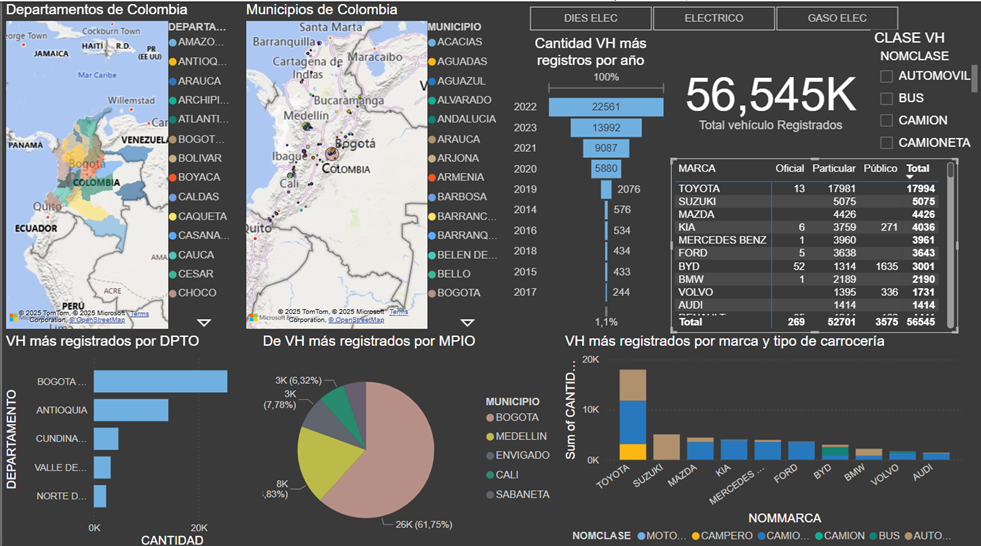

What the dashboard file says about the page in this screenshot:
{"tool":"powerbi","page":{"name":"Page 1","canvas":[1280,720],"ordinal":0},"visuals":[{"type":"pieChart","title":"% De VH más registrados por MPIO","fields":{"Category":["MUNICIPIO.MUNICIPIO"],"Y":["Sum(vehiculos_electricos_hibridos.CANTIDAD)"]},"box":[314.3,434.3,416.4,285.7],"z":0},{"type":"map","title":"Municipios de Colombia","fields":{"Y":["vehiculos_electricos_hibridos (2).LATITUD"],"X":["vehiculos_electricos_hibridos (2).LONGITUD"],"Series":["MUNICIPIO.MUNICIPIO"],"Size":["Sum(vehiculos_electricos_hibridos (2).CANTIDAD)"]},"box":[314.3,0,350.1,434.3],"z":1000},{"type":"filledMap","title":"Departamentos de Colombia","fields":{"Category":["DEPARTAMENTO.DEPARTAMENTO"],"Y":["Avg(vehiculos_electricos_hibridos.LATITUD)"],"X":["Avg(vehiculos_electricos_hibridos.LONGITUD)"],"Series":["DEPARTAMENTO.DEPARTAMENTO"]},"box":[0,0,314.3,434.3],"z":2000},{"type":"slicer","fields":{"Values":["COMBUSTIBLE.NOMCOMBUSTIBLE"]},"box":[664.5,0,531,44.8],"z":3000},{"type":"barChart","title":"VH más registrados por DPTO","fields":{"Category":["DEPARTAMENTO.DEPARTAMENTO"],"Y":["Sum(vehiculos_electricos_hibridos.CANTIDAD)"]},"box":[0,434.3,341.2,285.7],"z":4000},{"type":"columnChart","title":"VH más registrados por marca y tipo de carrocería","fields":{"Category":["MARCA.NOMMARCA"],"Y":["Sum(vehiculos_electricos_hibridos.CANTIDAD)"],"Series":["CLASE.NOMCLASE"]},"box":[730.7,434.3,531,285.7],"z":5000},{"type":"funnel","title":"Cantidad VH más registros por año","fields":{"Category":["MODELO.ANIOMODELO"],"Y":["Sum(vehiculos_electricos_hibridos.CANTIDAD)"]},"box":[664.5,44.8,210.4,389.6],"z":5001},{"type":"card","fields":{"Values":["Sum(vehiculos_electricos_hibridos.CANTIDAD)"]},"box":[874,44.8,260.6,161.2],"z":5002},{"type":"pivotTable","fields":{"Values":["Sum(vehiculos_electricos_hibridos.CANTIDAD)"],"Rows":["MARCA.NOMMARCA"],"Columns":["SERVICIO.NOMSERVICIO"]},"box":[874,206,375.2,228.4],"z":5003},{"type":"slicer","title":"CLASE VH","fields":{"Values":["CLASE.NOMCLASE"]},"box":[1134.6,37.6,145.1,168.4],"z":5004}]}

Visuals, with their boxes in screenshot pixels (x1, y1, x2, y2), scaled from the page's 1280x720 canvas onto the 981x546 screenshot:
"% De VH más registrados por MPIO" pieChart: left=241, top=329, right=560, bottom=545
"Municipios de Colombia" map: left=241, top=0, right=509, bottom=329
"Departamentos de Colombia" filledMap: left=0, top=0, right=241, bottom=329
slicer - COMBUSTIBLE.NOMCOMBUSTIBLE: left=509, top=0, right=916, bottom=34
"VH más registrados por DPTO" barChart: left=0, top=329, right=261, bottom=545
"VH más registrados por marca y tipo de carrocería" columnChart: left=560, top=329, right=967, bottom=545
"Cantidad VH más registros por año" funnel: left=509, top=34, right=671, bottom=329
card - Sum(vehiculos_electricos_hibridos.CANTIDAD): left=670, top=34, right=870, bottom=156
pivotTable - Sum(vehiculos_electricos_hibridos.CANTIDAD) x MARCA.NOMMARCA: left=670, top=156, right=957, bottom=329
"CLASE VH" slicer: left=870, top=29, right=980, bottom=156
